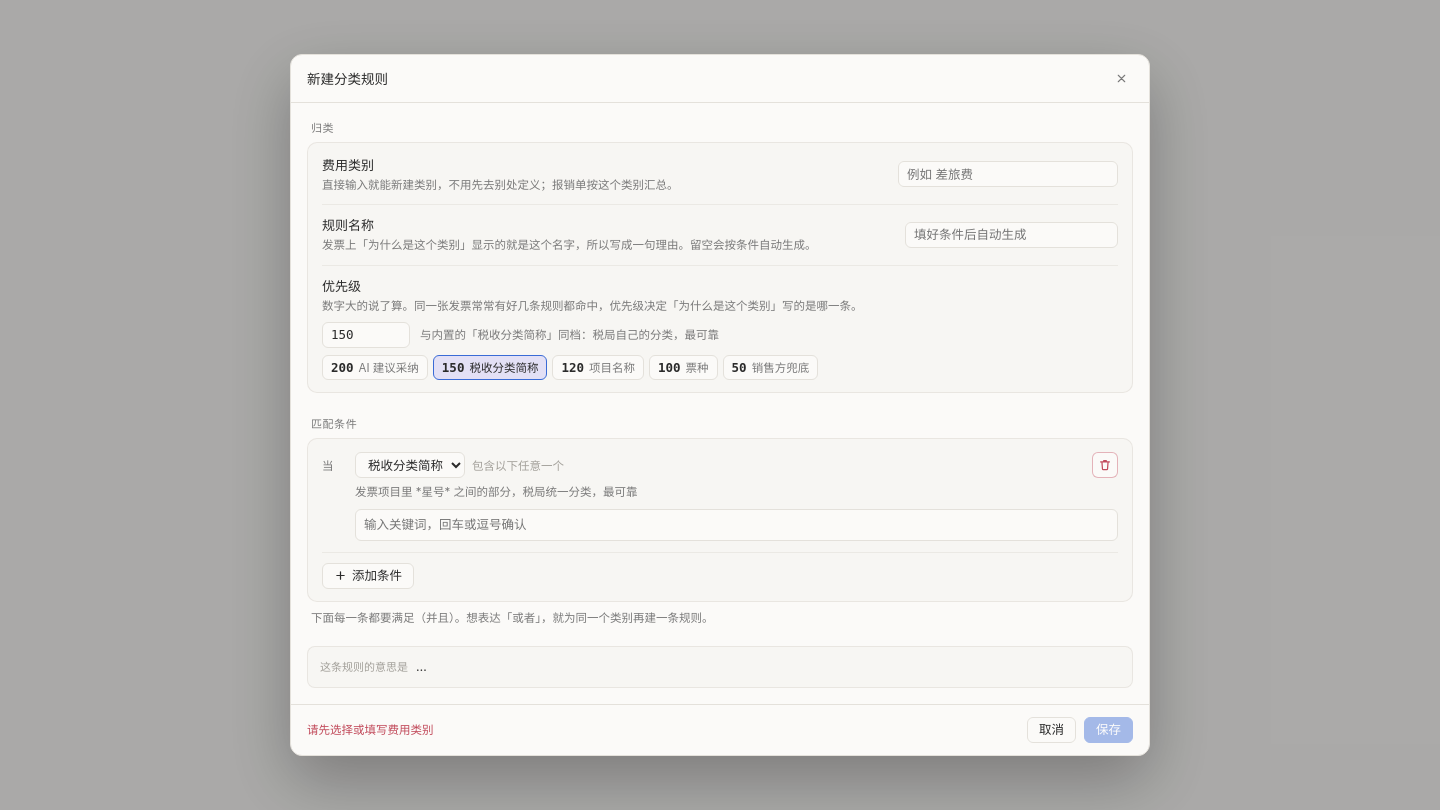
RuleEditor › splits pasted keywords on any of the usual separators
Type "酒店,宾馆、民宿" into the field labelled "关键词" at [736, 525], box [362,515,1111,535]
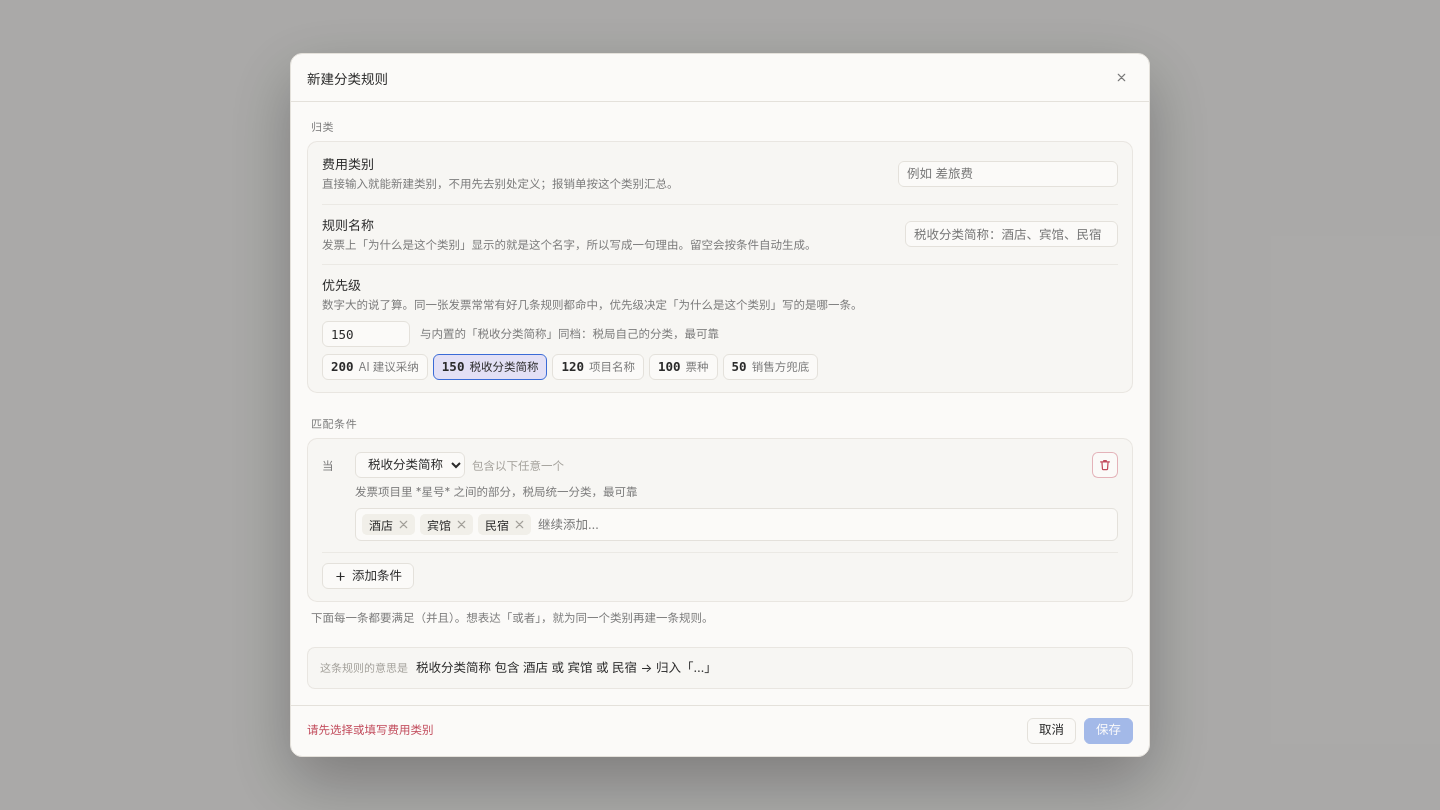
Result: the text "酒店" is shown at [362,514,415,535]
Result: the text "宾馆" is shown at [420,514,473,535]
Result: the text "民宿" is shown at [478,514,531,535]
